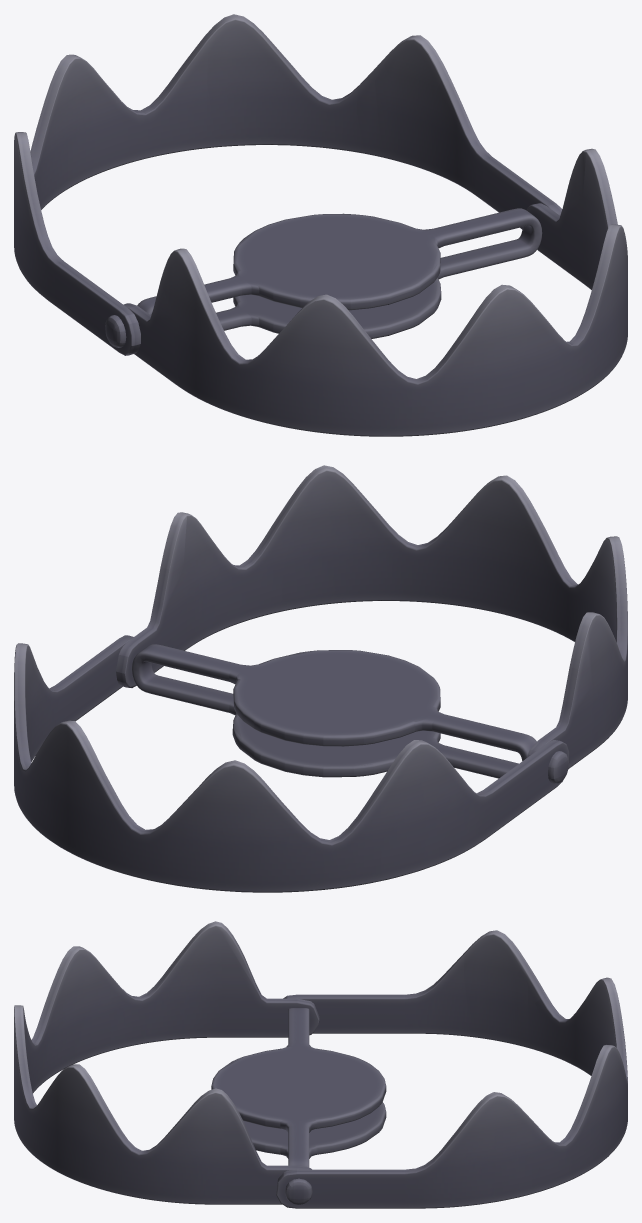
File: bear_trap.fbx
3 views of the same model, one above another, from view 1: azimuth 30°, elevation 25°; view 2: azimuth 150°, elevation 25°; view 3: azimuth 270°, elevation 25° (orthographic). The views are drawn at different scales.
Parts seen in each view (by area): view 1: bear_trap; view 2: bear_trap; view 3: bear_trap.
Part boxes in pixels (x1,y1,x2,y2): bear_trap: [14, 14, 627, 436]; bear_trap: [14, 465, 627, 892]; bear_trap: [14, 921, 627, 1208].
Size of the model in its own units: 70.04 by 19.93 by 97.84.
1 material, 1 textured.
